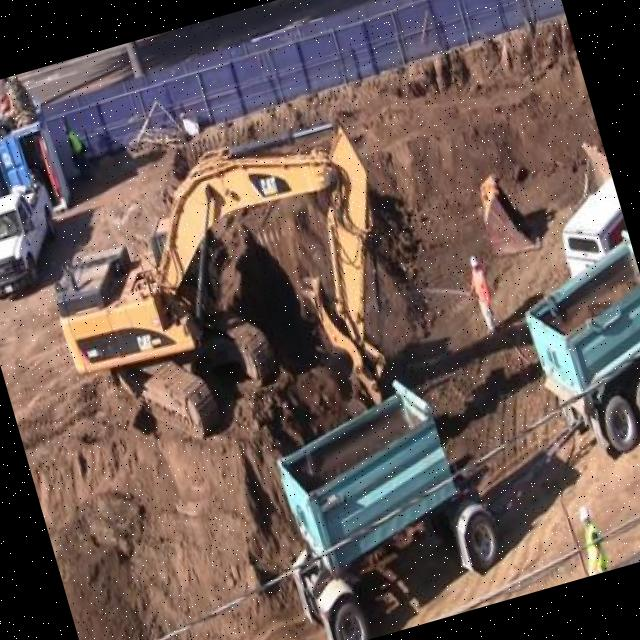Dump Truck: (505, 230, 640, 472)
Excavator: (23, 106, 431, 480)
